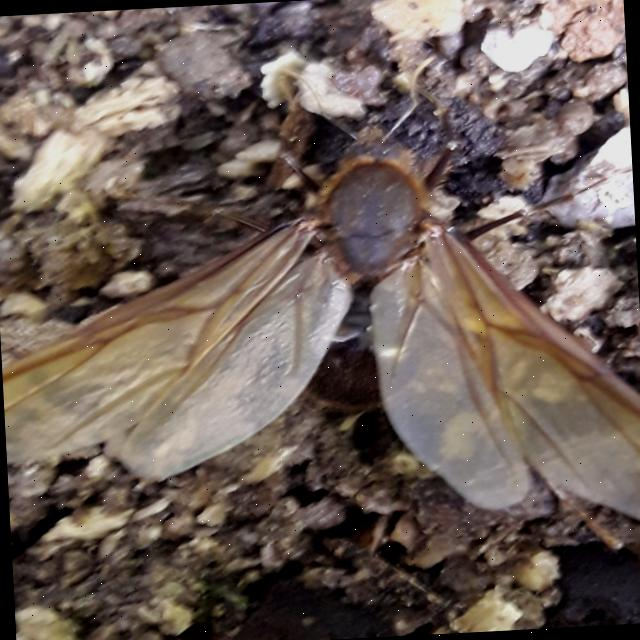Alive-Male-Alate: (0, 43, 640, 568)
